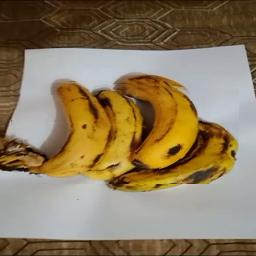Banana Semifresh: (9, 80, 239, 185)
